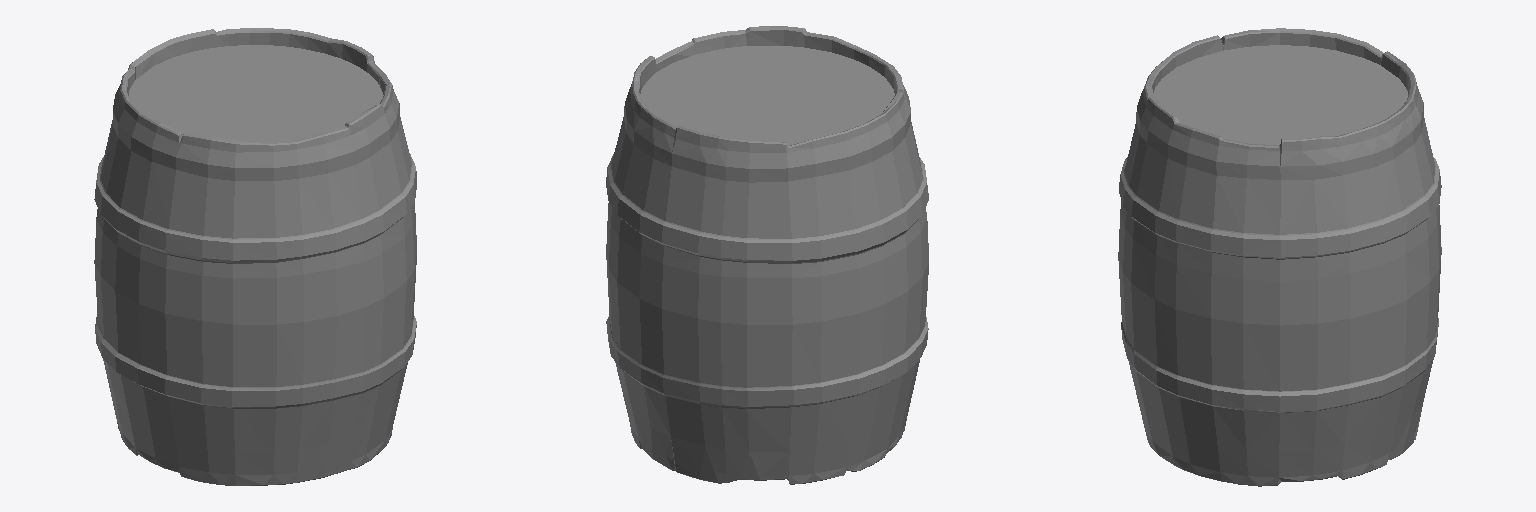
The model's file is barrel.obj.
3 views of the same model, side by side, from view 1: azimuth 30°, elevation 25°; view 2: azimuth 150°, elevation 25°; view 3: azimuth 270°, elevation 25° (orthographic).
Parts seen in each view (by area): view 1: prop_barrel_01_未命名; view 2: prop_barrel_01_未命名; view 3: prop_barrel_01_未命名.
Boxes of the visible parts, x1,y1,x2,y2 form: prop_barrel_01_未命名: [94, 28, 416, 485]; prop_barrel_01_未命名: [606, 26, 928, 484]; prop_barrel_01_未命名: [1118, 28, 1441, 486].
Size of the model in its own units: 2.6 by 3.06 by 2.58.